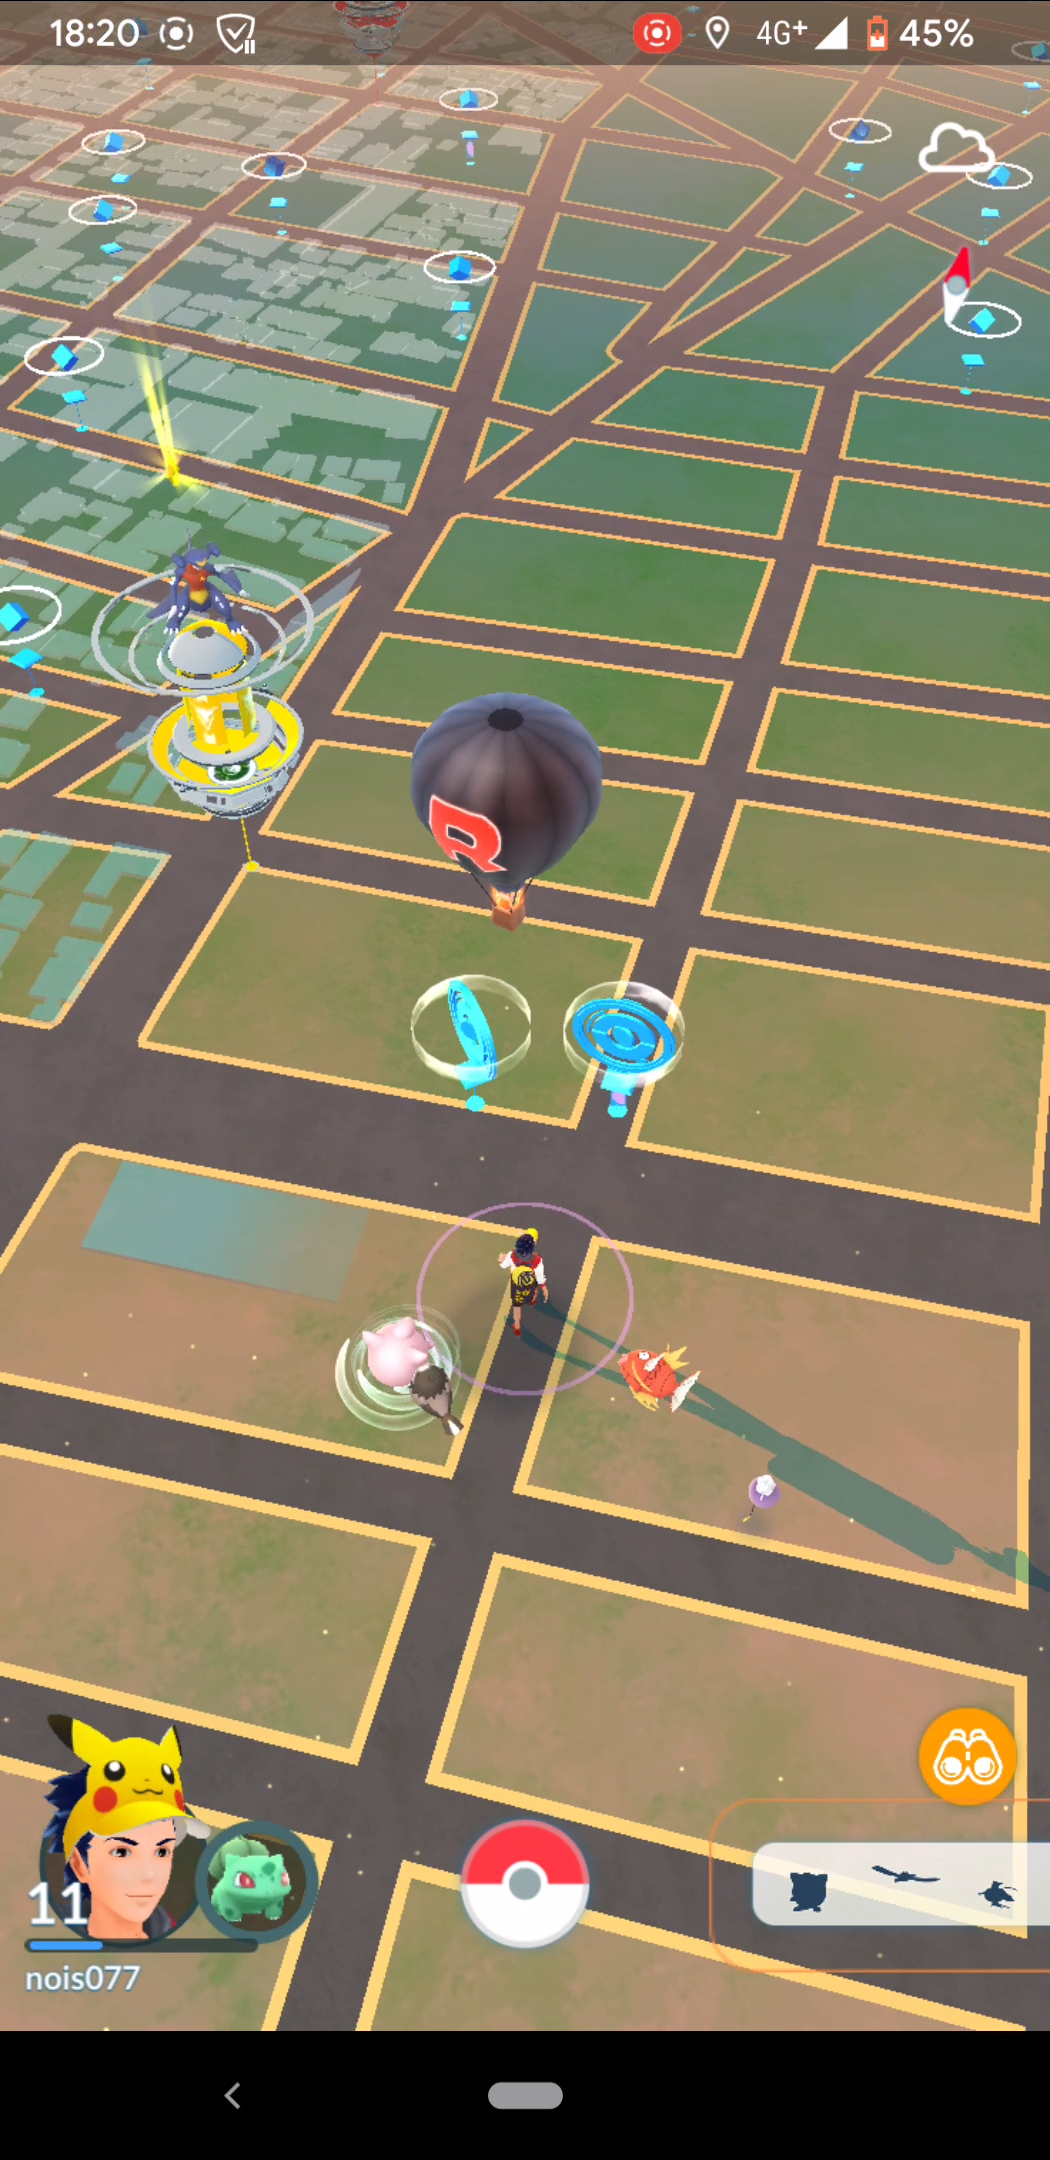pokestop: (566, 990, 686, 1084), (434, 975, 508, 1081)
